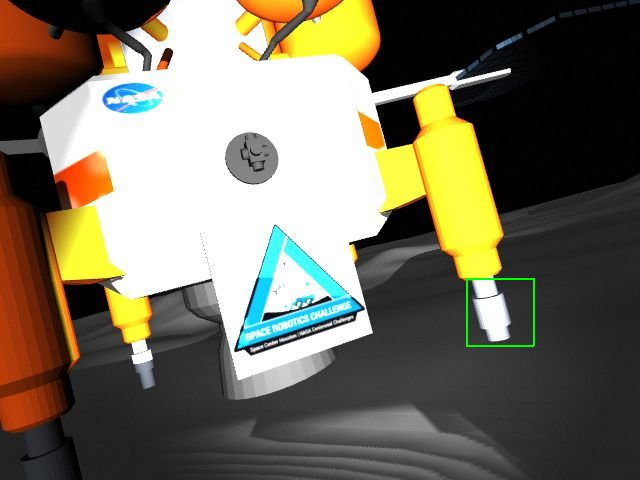basemarker: (234, 223, 365, 357)
